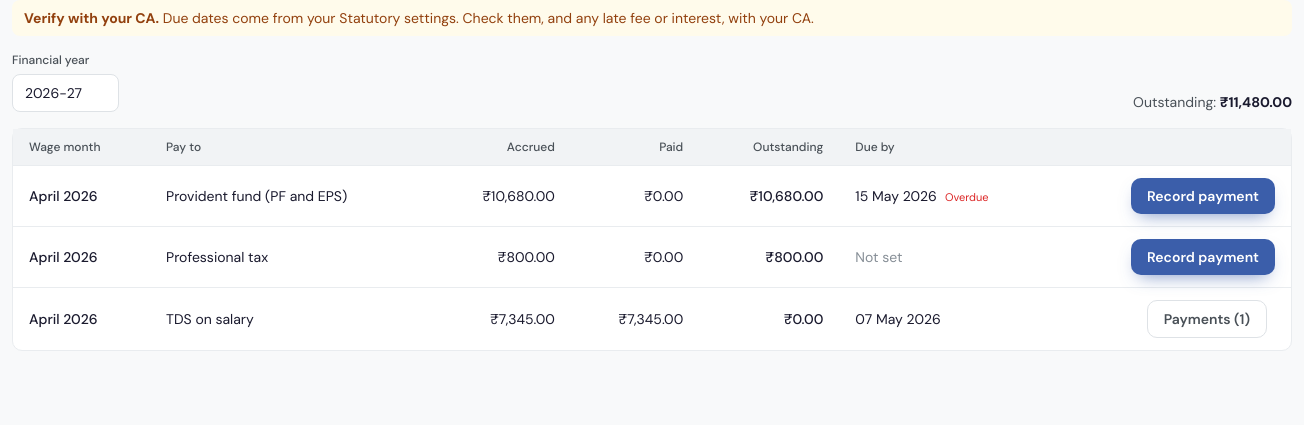
Test case: DuesTab › shows the payments made with their challan details
This screenshot has width=1304, height=425.
Click the button "Payments (1)" at coordinates (1207, 319), box [1147,300,1267,338]
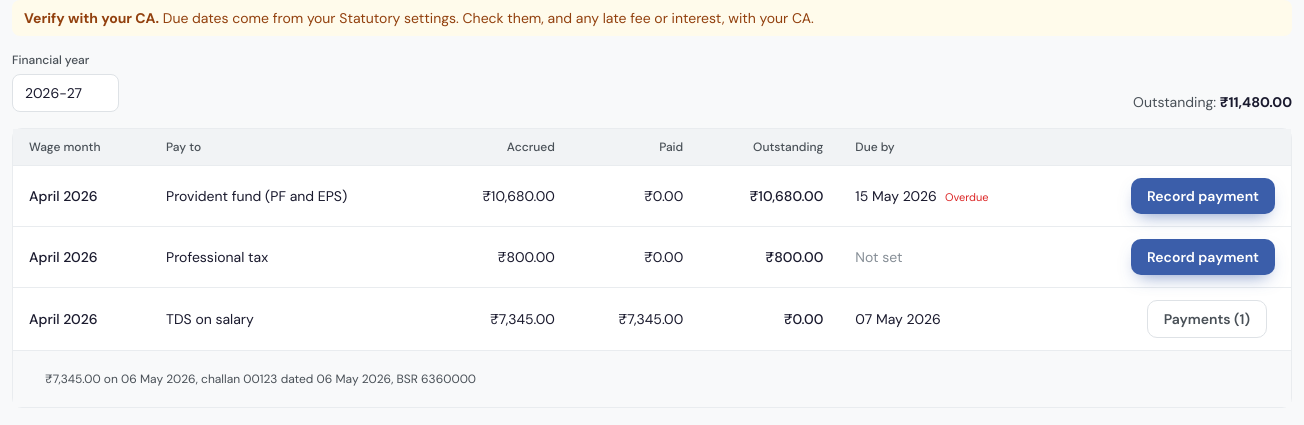
Expected: the list named "TDS on salary payments" shows "challan 00123", [196,371,277,387]
Expected: the list named "TDS on salary payments" shows "BSR 6360000", [391,371,476,387]
